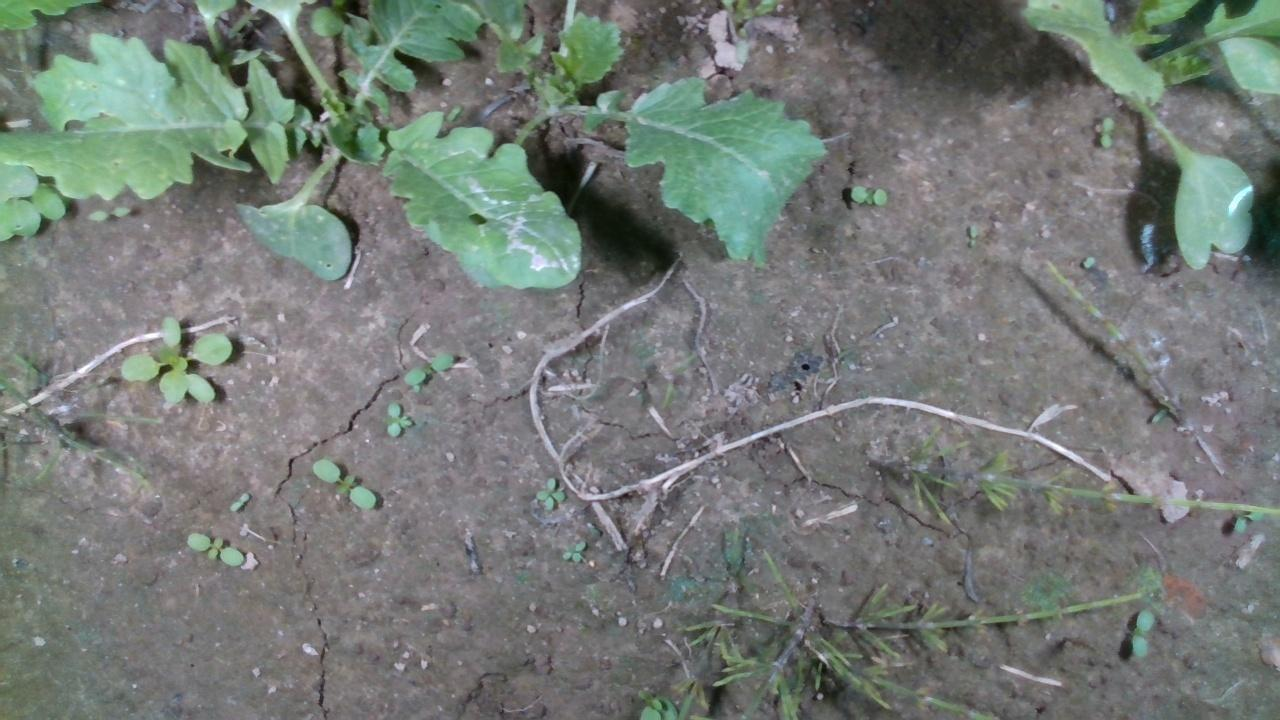weed: (309, 458, 377, 508), (184, 531, 245, 568), (399, 349, 455, 385), (1129, 608, 1154, 660), (532, 475, 566, 510), (385, 400, 415, 437), (848, 182, 889, 206), (85, 205, 132, 222), (560, 537, 585, 565), (1096, 115, 1116, 149), (227, 489, 250, 513), (966, 222, 977, 251), (1080, 255, 1096, 269)
